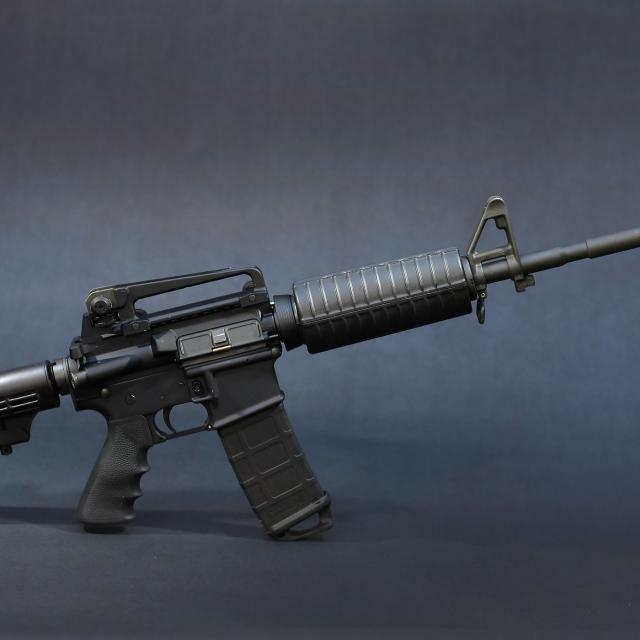Rifle: (0, 197, 640, 544)
